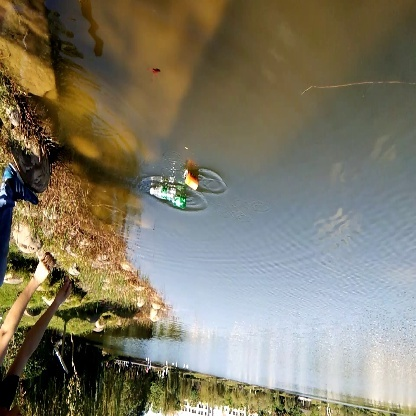bottle: (179, 167, 205, 190)
